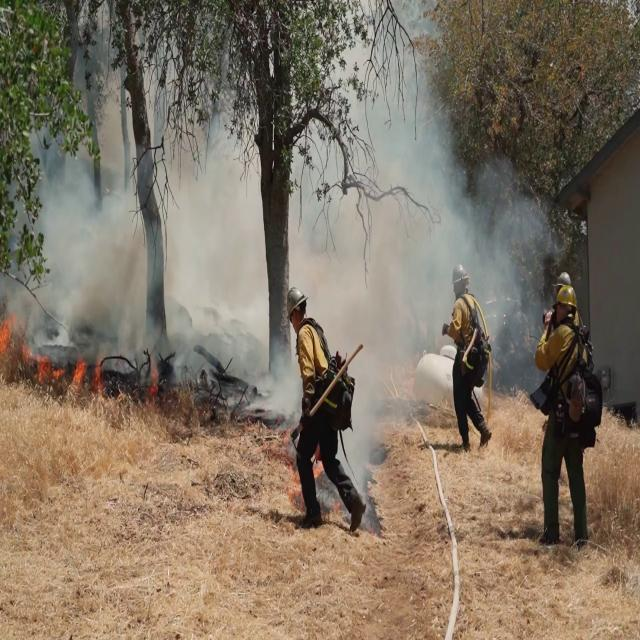Fire: (34, 352, 89, 409), (0, 310, 17, 370)
Smoke: (296, 46, 540, 456), (0, 84, 278, 416)
